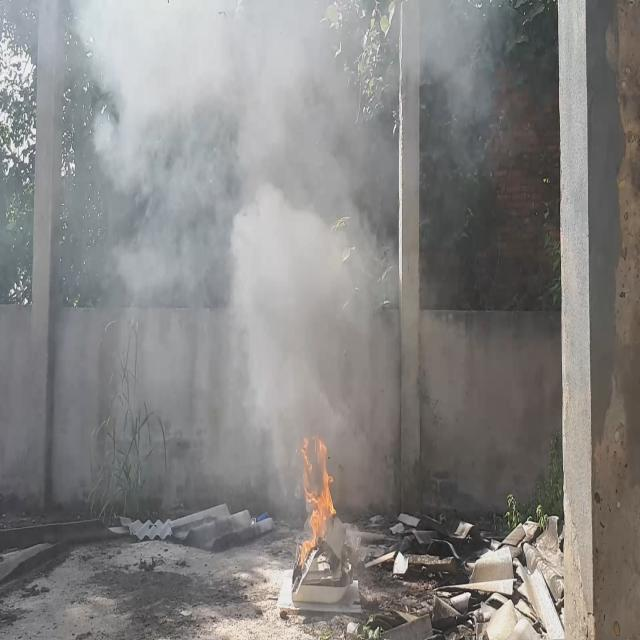Fire: (299, 438, 335, 568)
Smoke: (0, 0, 528, 503)
